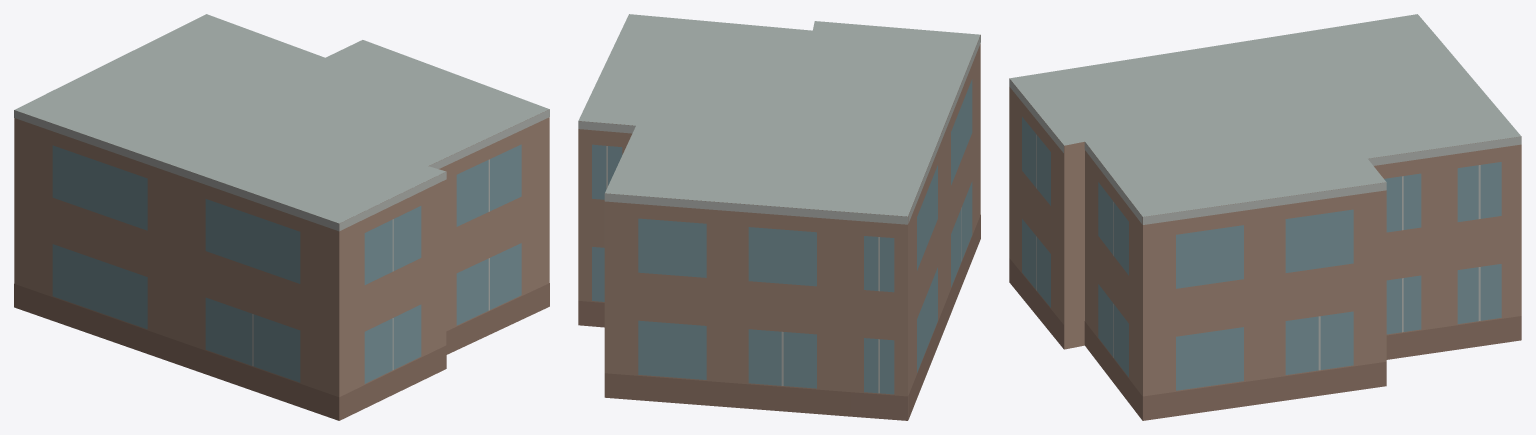
File: survey-upis-32681227.glb
3 renders of one model, left to right at view 1: azimuth 30°, elevation 25°; view 2: azimuth 150°, elevation 25°; view 3: azimuth 270°, elevation 25°, orthographic. The views are drawn at different scales.
Visible parts, largest first — view 1: survey-upis-32681227.tmp; view 2: survey-upis-32681227.tmp; view 3: survey-upis-32681227.tmp.
Boxes of the visible parts, x1,y1,x2,y2 form: survey-upis-32681227.tmp: (14,14,549,420); survey-upis-32681227.tmp: (578,14,980,420); survey-upis-32681227.tmp: (1009,14,1521,420).
Bounding box in the file's own units: 13.03 × 6.1 × 13.89.
